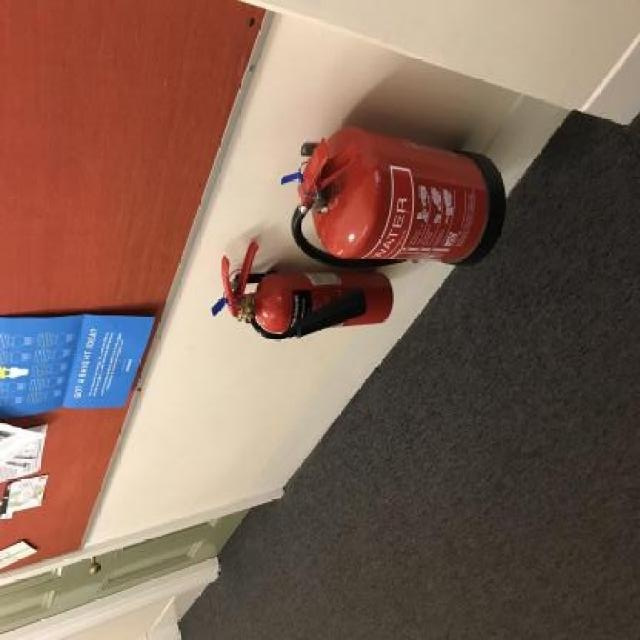fire extinguisher: (291, 125, 506, 271), (218, 240, 394, 342)
